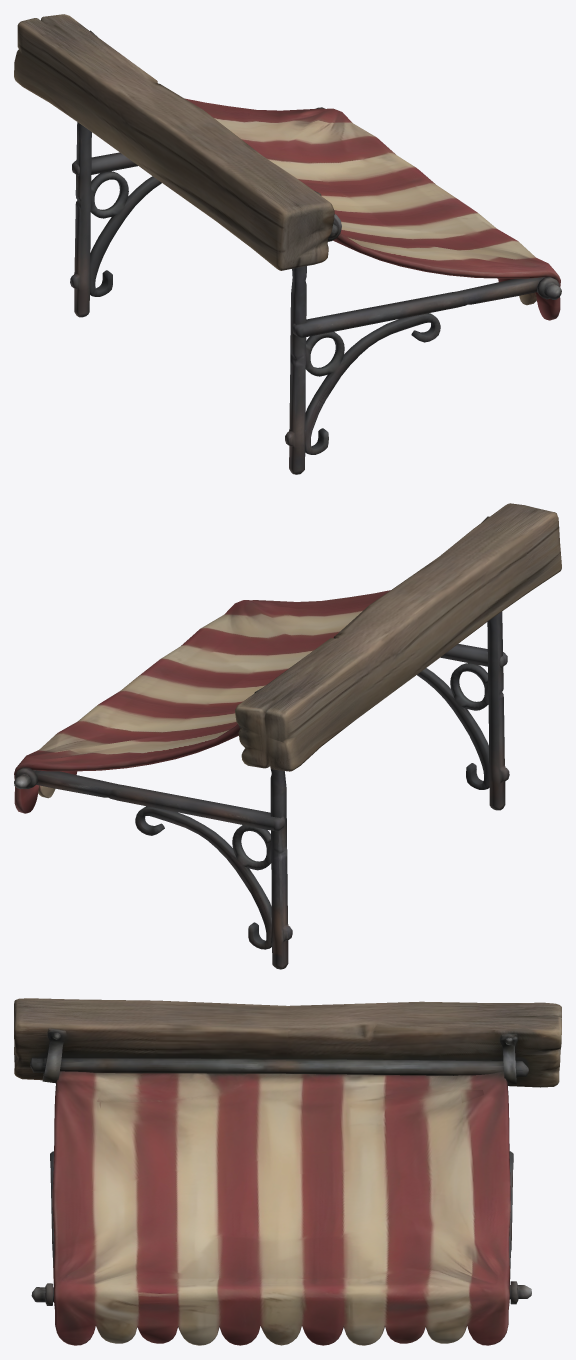
Rendered from SM_Env_SohoShopAwning.fbx.
The picture shows the model from 3 angles, top to bottom: view 1: azimuth 30°, elevation 25°; view 2: azimuth 150°, elevation 25°; view 3: azimuth 270°, elevation 25°; orthographic projection.
Visible parts, largest first — view 1: SM_Env_SohoShopAwning; view 2: SM_Env_SohoShopAwning; view 3: SM_Env_SohoShopAwning.
Part boxes in pixels (x1,y1,x2,y2): SM_Env_SohoShopAwning: (14, 14, 561, 474); SM_Env_SohoShopAwning: (14, 503, 561, 969); SM_Env_SohoShopAwning: (14, 998, 561, 1345).
Size of the model in its own units: 26.97 by 41.04 by 24.
1 material, 1 textured.
